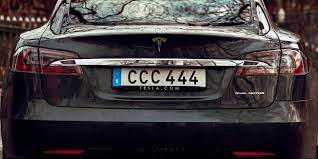number_plate: (106, 64, 219, 94)
